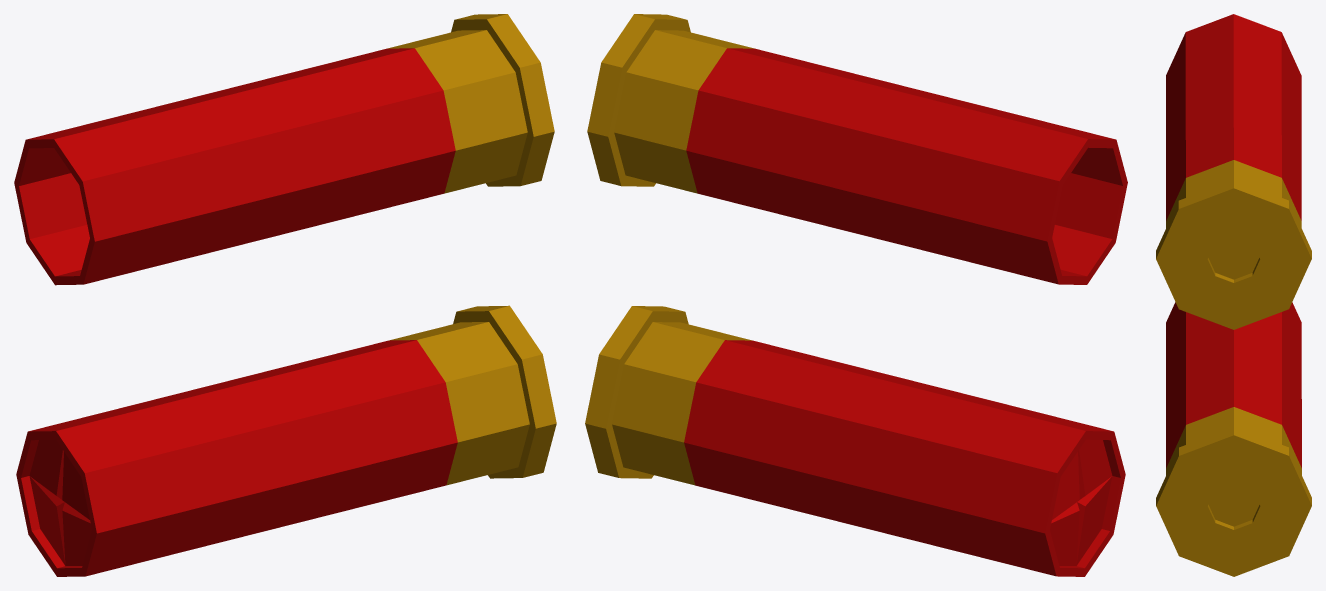
Rendered from fort-500_side.glb.
The picture shows the model from 3 angles, left to right: view 1: azimuth 30°, elevation 25°; view 2: azimuth 150°, elevation 25°; view 3: azimuth 270°, elevation 25°; orthographic projection. The views are drawn at different scales.
Visible parts, largest first — view 1: Cylinder.002_4 (×2), Cylinder.001_3 (×2); view 2: Cylinder.001_3 (×2), Cylinder.002_4 (×2); view 3: Cylinder.002_4 (×2), Cylinder.001_3 (×2).
Part boxes in pixels (x1,y1,x2,y2): Cylinder.002_4 (×2): (14,14,554,285); Cylinder.001_3 (×2): (16,305,556,576); Cylinder.001_3 (×2): (585,306,1125,576); Cylinder.002_4 (×2): (587,14,1127,284); Cylinder.002_4 (×2): (1156,14,1311,329); Cylinder.001_3 (×2): (1156,302,1311,576).
Bounding box in the file's own units: 0.6547 × 0.6298 × 0.2298.
